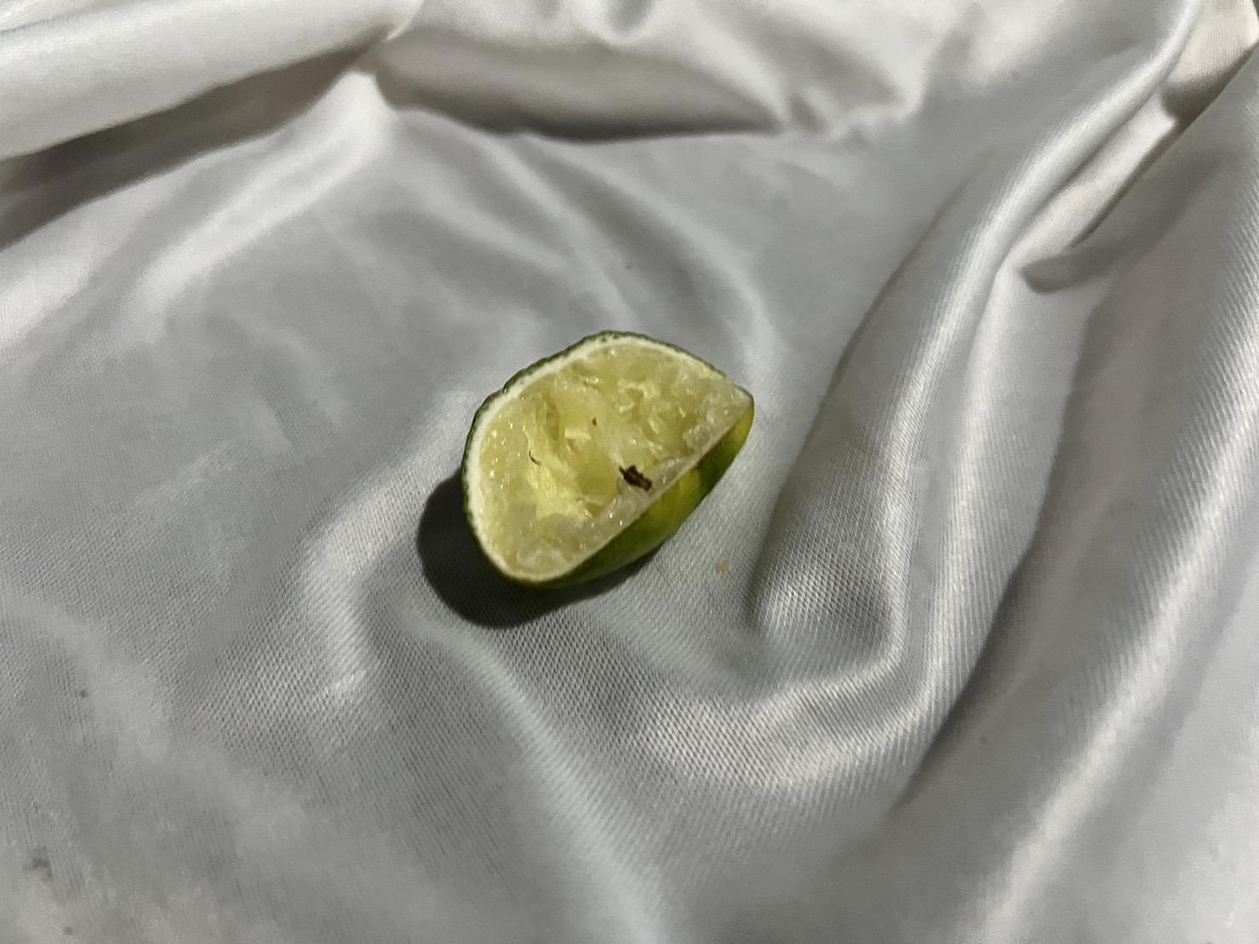Infectious: (459, 328, 755, 592)
Pathological: (4, 3, 1252, 939)
